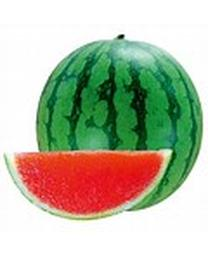watermelon: (37, 37, 202, 210), (3, 148, 171, 220)
